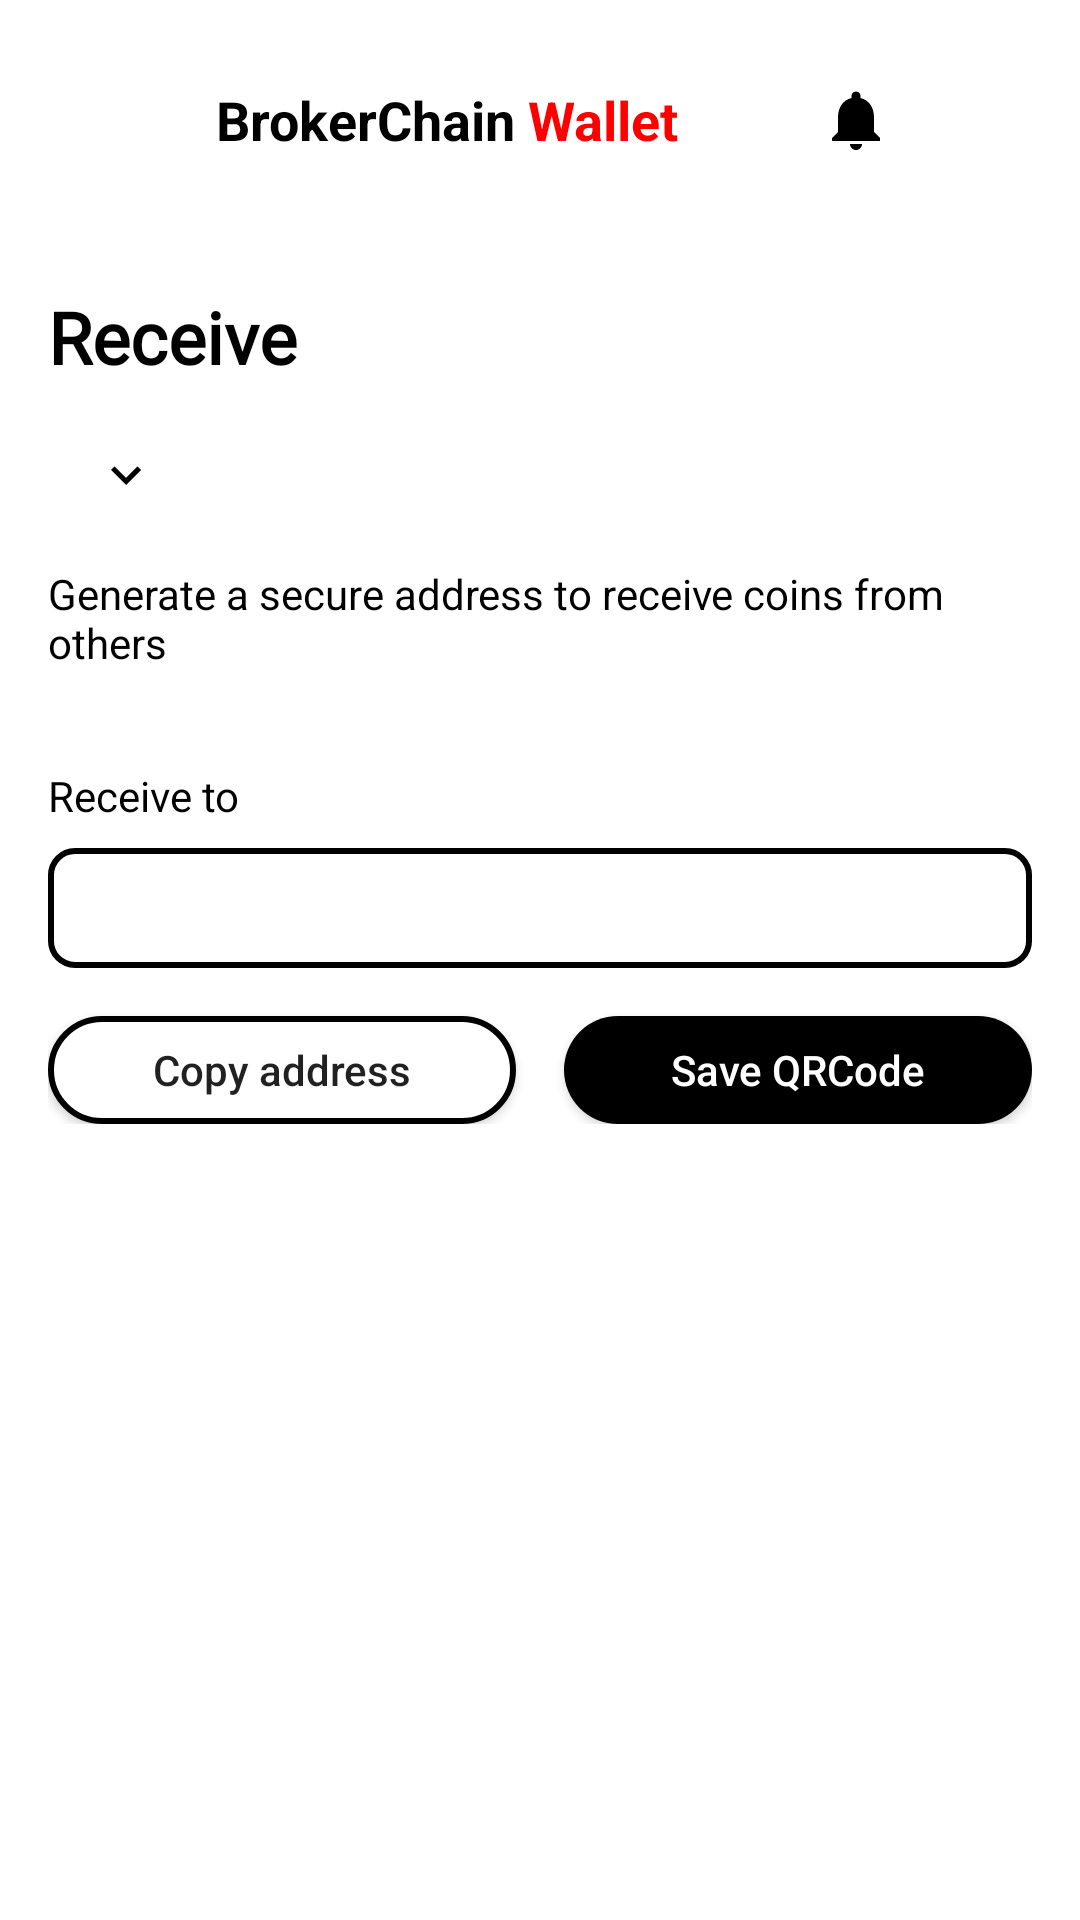

Where icons sit on this 1080 × 1920 app screen, as (x1, y1, x2, y2):
Notifications: (832, 91, 880, 150)
